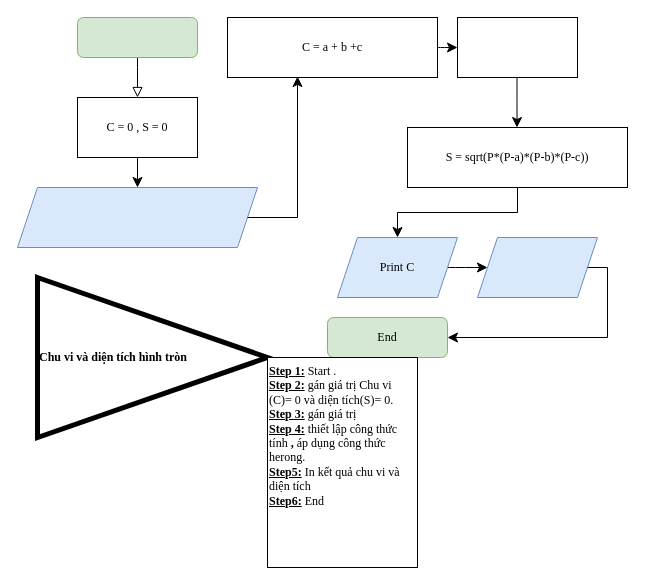
Some shapes in this 645 by 585 pixel diagram are drawn without their labels. Here are the shapes that lost their labels. From the top down, the box of each, then its label:
(76, 16, 198, 58): Start
(456, 16, 578, 78): P = C/2
(16, 186, 258, 248): Read a,b,c
(476, 236, 598, 298): Print S
